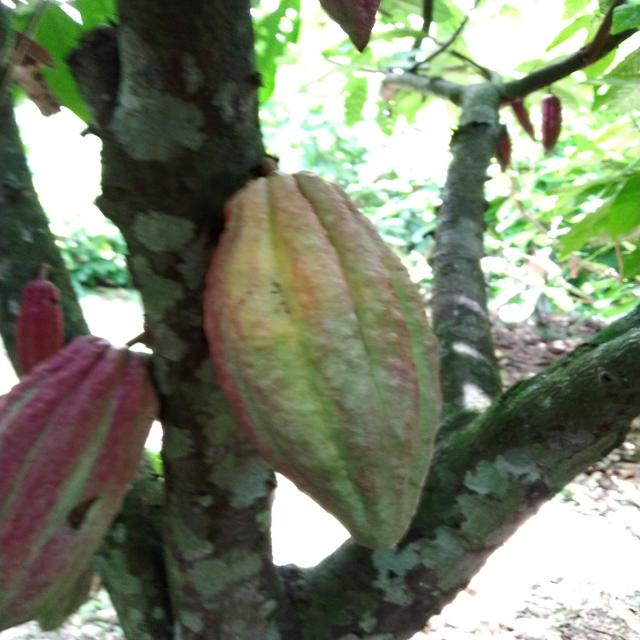Sana: (211, 172, 444, 550), (1, 335, 156, 631), (10, 272, 68, 375), (542, 97, 565, 160), (511, 104, 531, 126)
